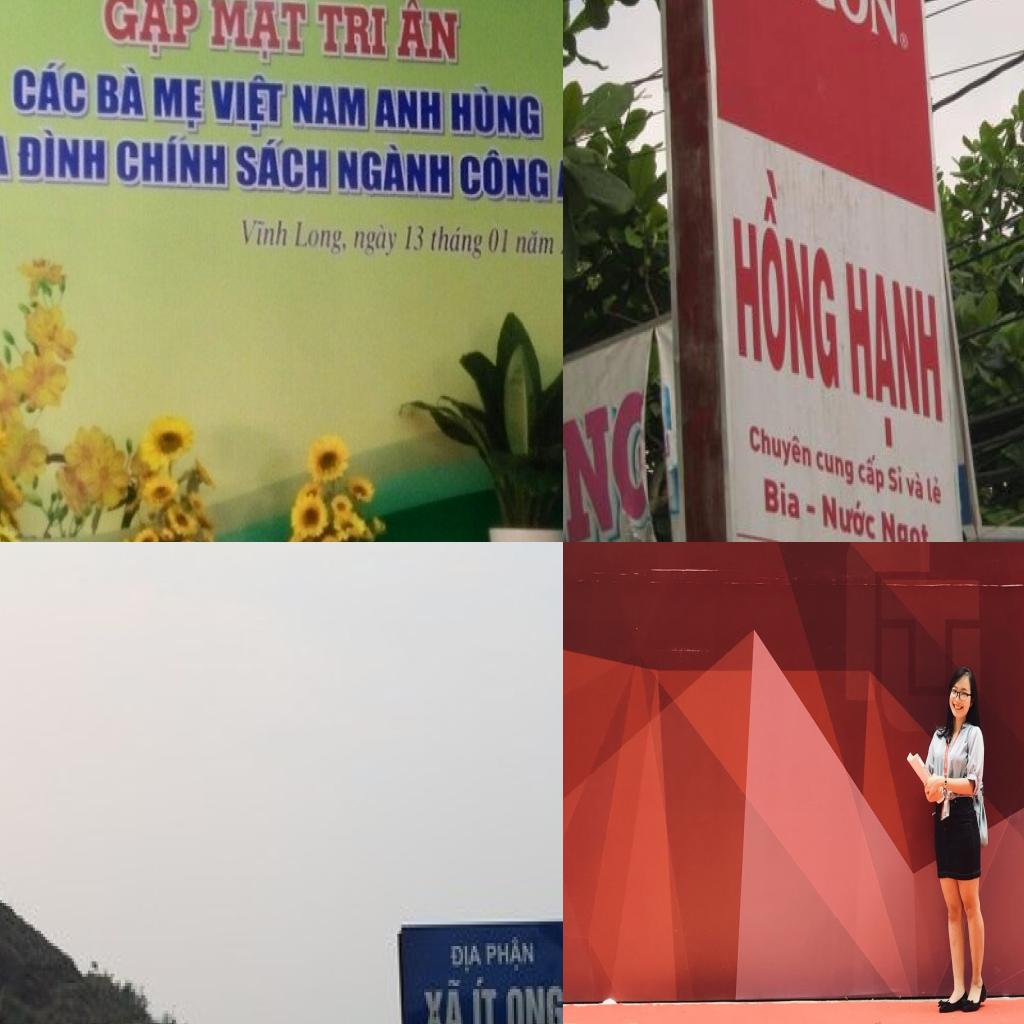text: (726, 158, 842, 400), (842, 254, 950, 470), (563, 349, 622, 542), (724, 0, 901, 52), (337, 141, 453, 200), (209, 0, 308, 69), (115, 133, 228, 190), (100, 0, 202, 60), (234, 134, 330, 193), (14, 128, 108, 186), (208, 70, 286, 139), (450, 83, 543, 140), (458, 147, 552, 201), (12, 59, 88, 119), (392, 0, 459, 66), (317, 2, 390, 62), (746, 419, 816, 477), (291, 83, 370, 131), (373, 86, 445, 136), (819, 487, 879, 542), (95, 63, 148, 122), (152, 75, 205, 134), (503, 982, 563, 1024), (420, 976, 471, 1024), (483, 934, 539, 977), (760, 474, 802, 528), (431, 221, 485, 262), (294, 220, 348, 258), (816, 444, 858, 492), (879, 507, 935, 542), (352, 222, 402, 258), (450, 943, 490, 980), (242, 218, 290, 248), (471, 976, 501, 1024), (858, 450, 887, 498), (514, 230, 556, 256), (924, 474, 946, 510), (886, 462, 906, 501), (906, 470, 927, 504), (404, 224, 426, 254), (487, 228, 510, 255), (806, 501, 820, 518), (901, 33, 909, 54)
